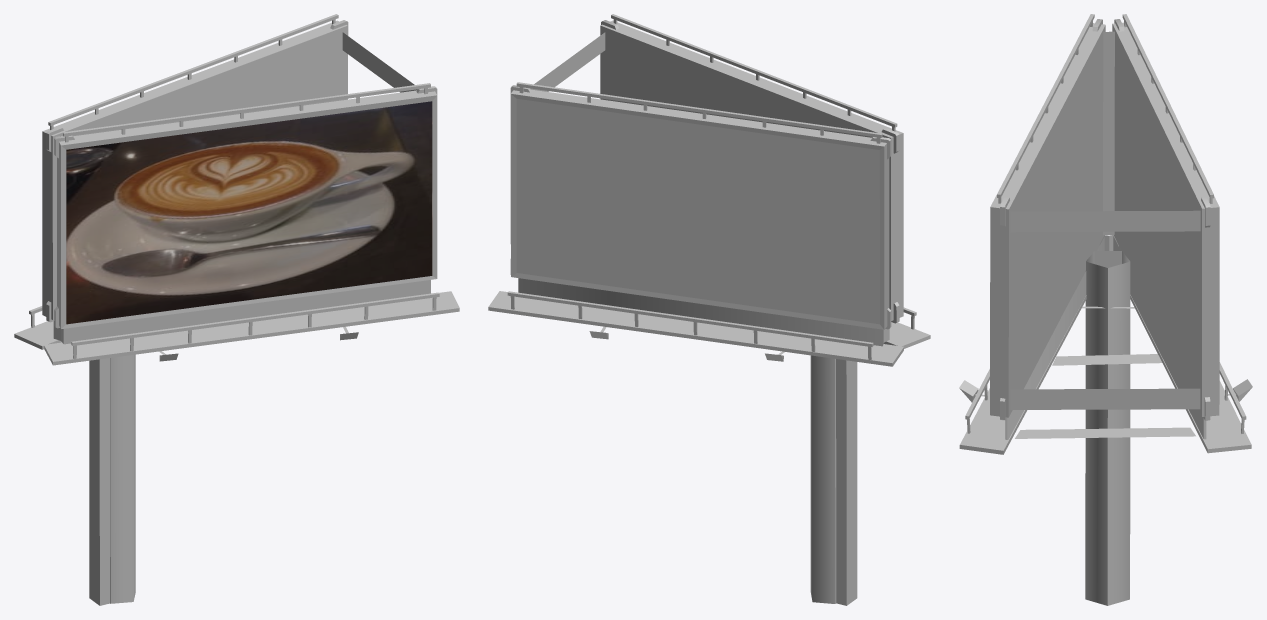
The model's file is coffee.dae.
3 renders of one model, left to right at view 1: azimuth 30°, elevation 25°; view 2: azimuth 150°, elevation 25°; view 3: azimuth 270°, elevation 25°, orthographic. The views are drawn at different scales.
Parts seen in each view (by area): view 1: coffee, Base; view 2: Pic1, Base; view 3: Base.
Part boxes in pixels (x1=…): coffee: x1=66, y1=101, x2=432, y2=324; Base: x1=14, y1=14, x2=459, y2=605; Pic1: x1=516, y1=99, x2=879, y2=324; Base: x1=488, y1=14, x2=930, y2=605; Base: x1=959, y1=14, x2=1252, y2=605.
Size of the model in its own units: 724 by 900 by 437.
